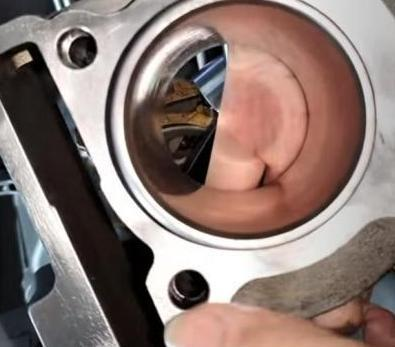hole: (167, 265, 212, 314), (55, 24, 100, 69)
